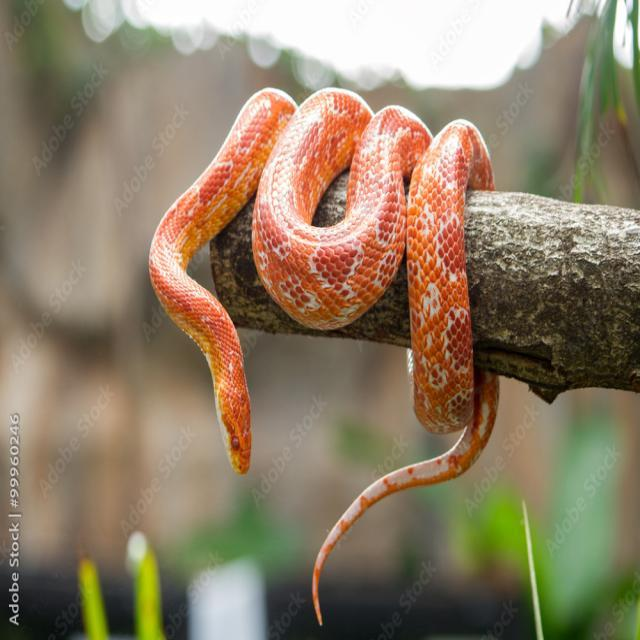Snake: (140, 44, 530, 614)
